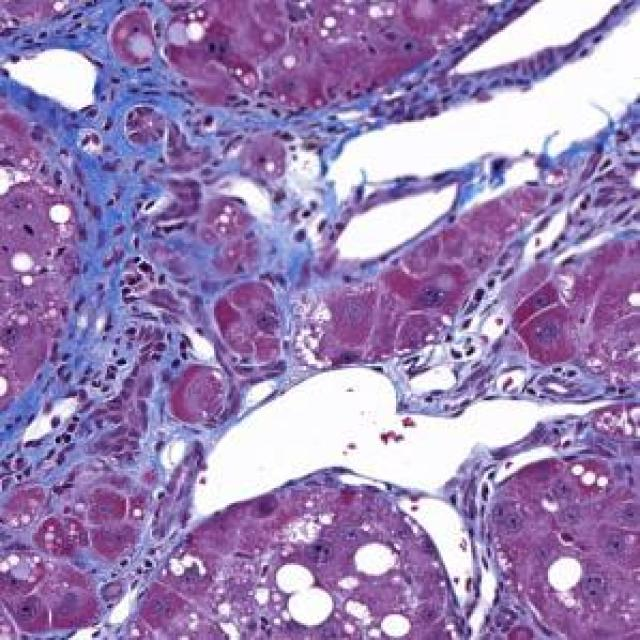fibrosis: (43, 111, 338, 379)
